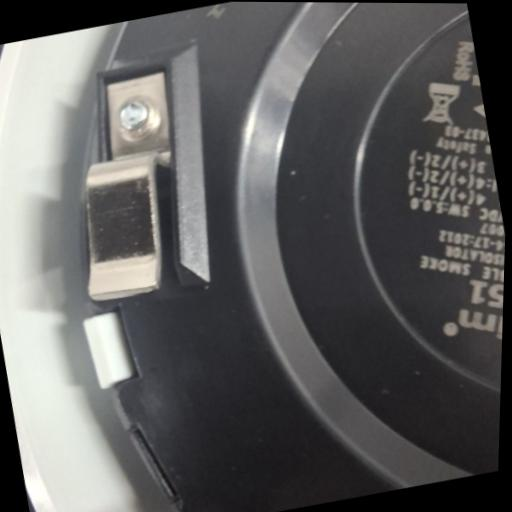yaysiz: (38, 62, 215, 324)
